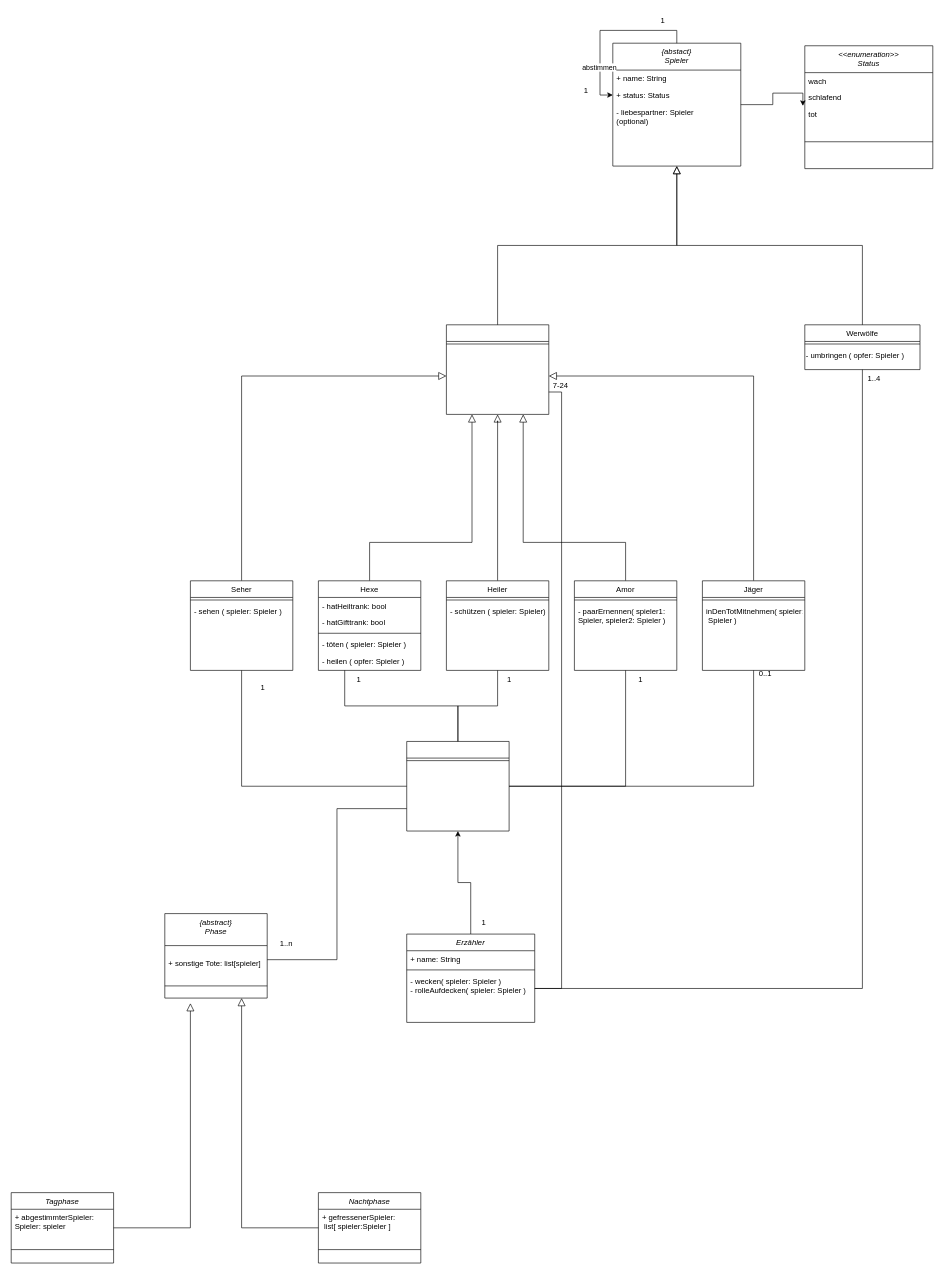
The diagram is 944 pixels wide and 1274 high, and some of its shapes have lost their labels. Here are the shapes that lost their labels. From the top down, the centre of each, then its label:
At point (497, 369): "Dorfbewohner".
At point (457, 786): "Spiel".
